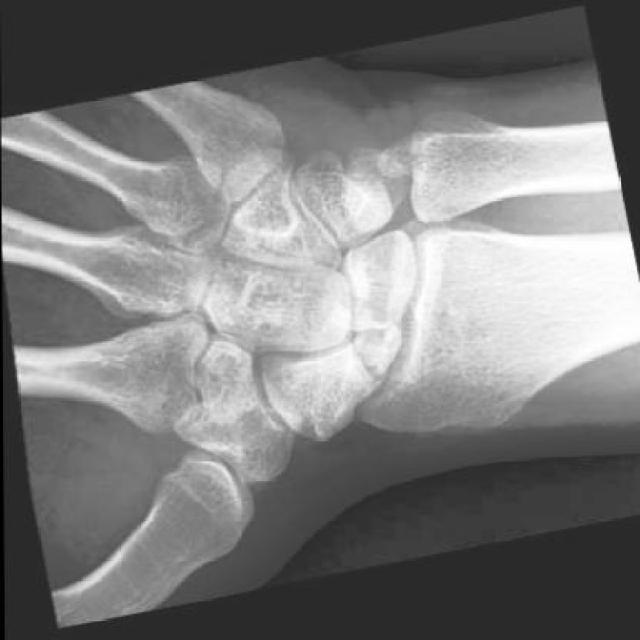Fracture: (338, 325, 416, 402)
